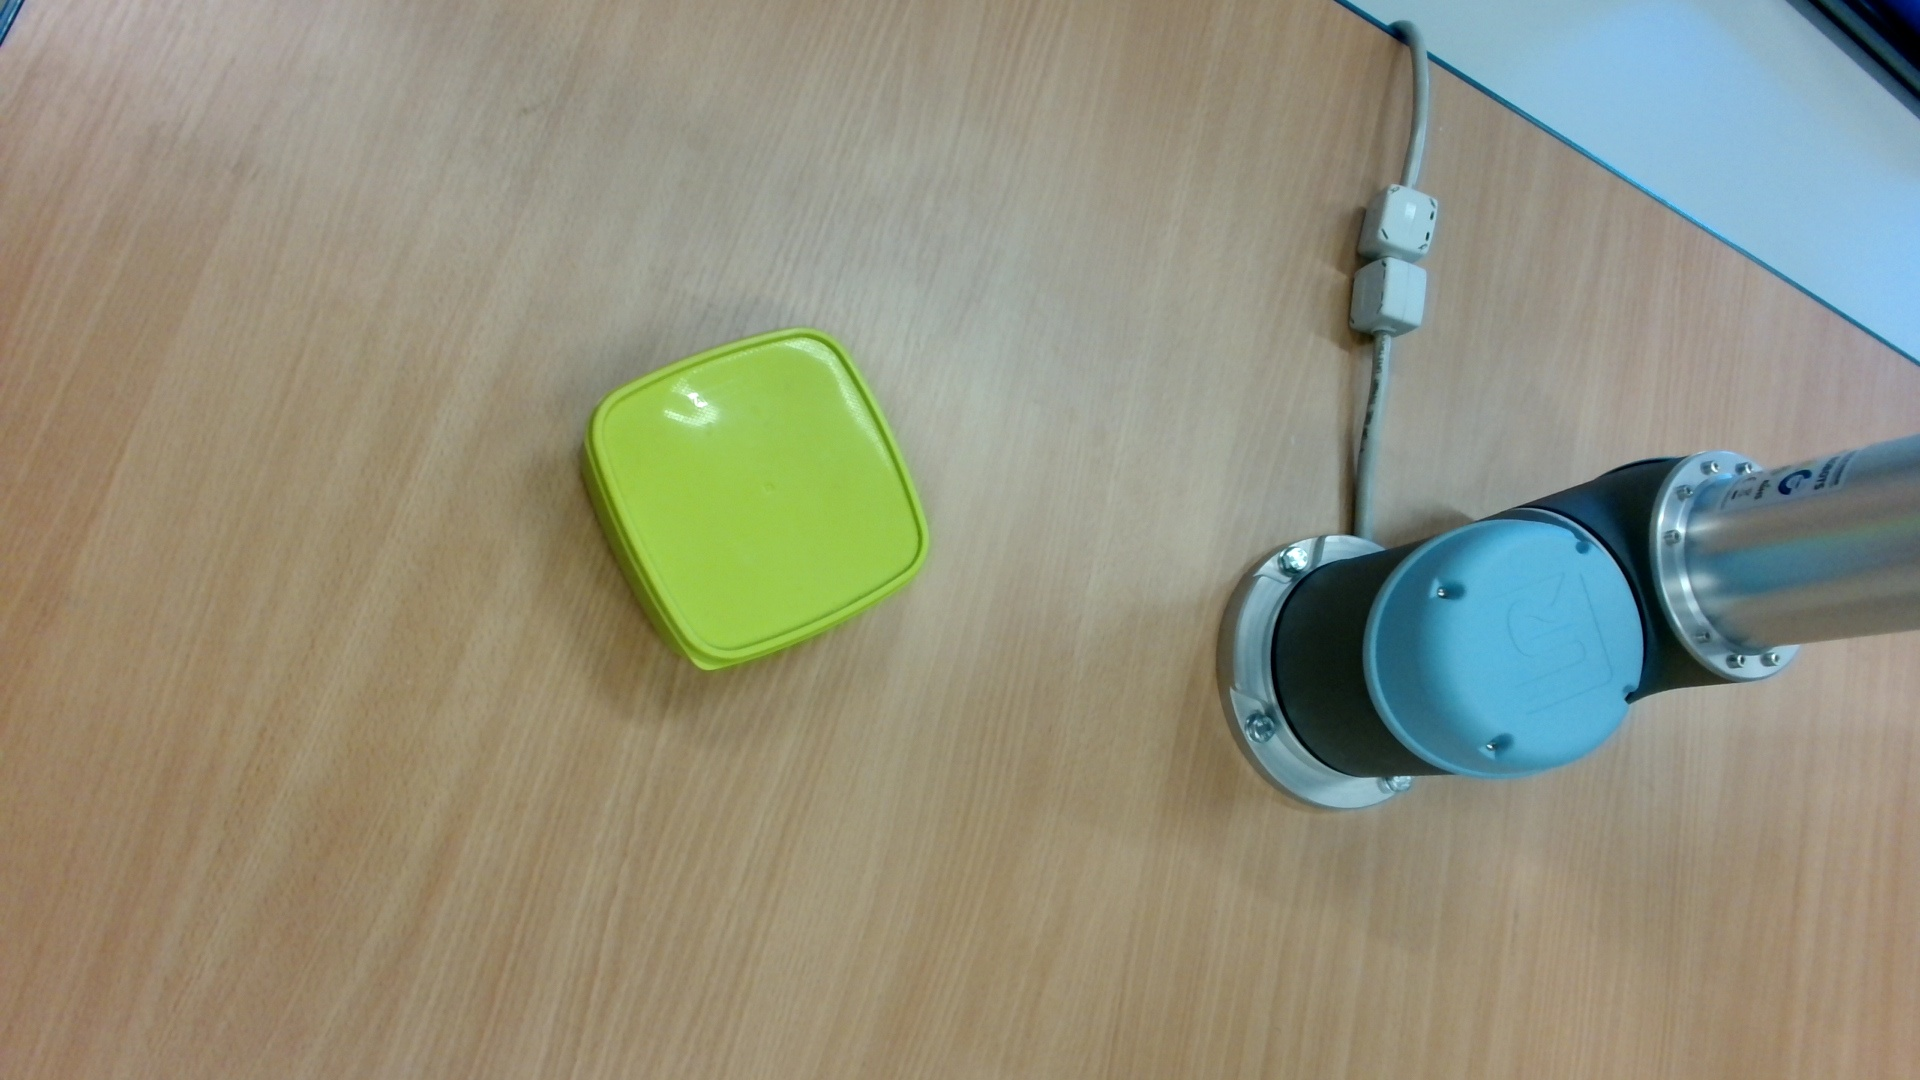Box: (574, 322, 939, 679)
